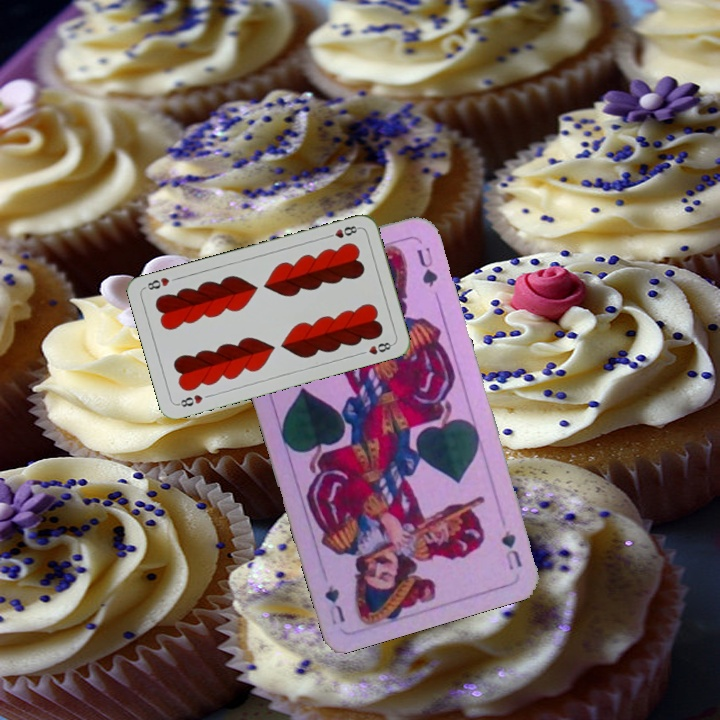GU: (497, 526, 524, 573)
H8: (322, 222, 362, 241), (174, 390, 205, 410)
